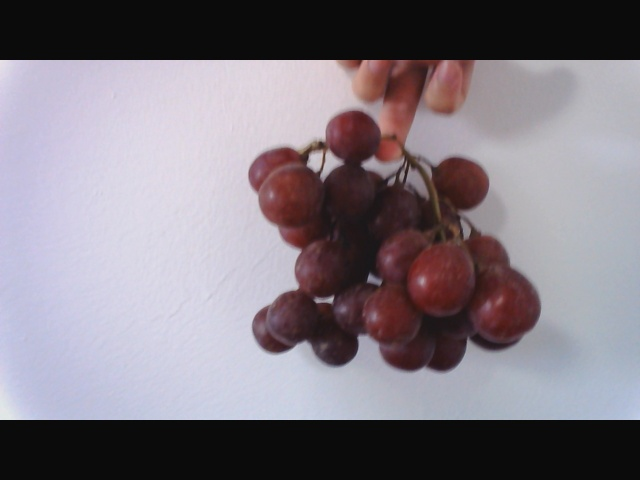grape: (220, 113, 551, 382)
